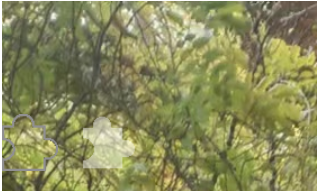target: (79, 115, 139, 171)
